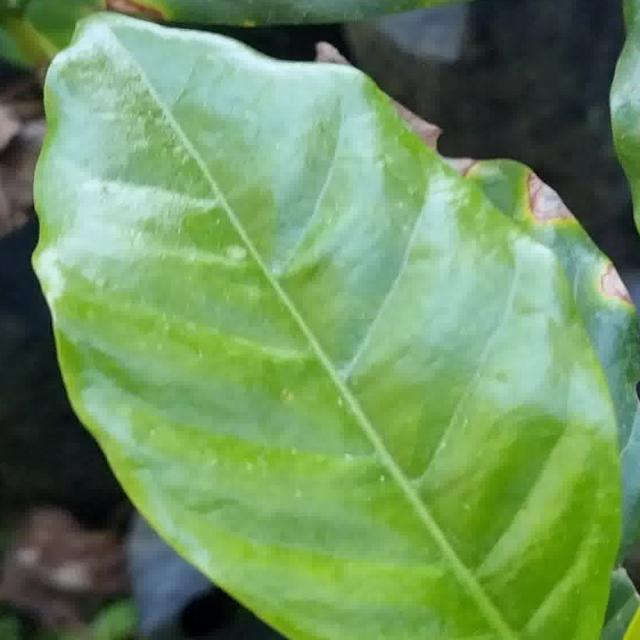leaves: (28, 8, 624, 639)
